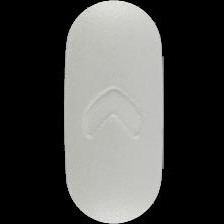50436-6041: (0, 0, 224, 224)
